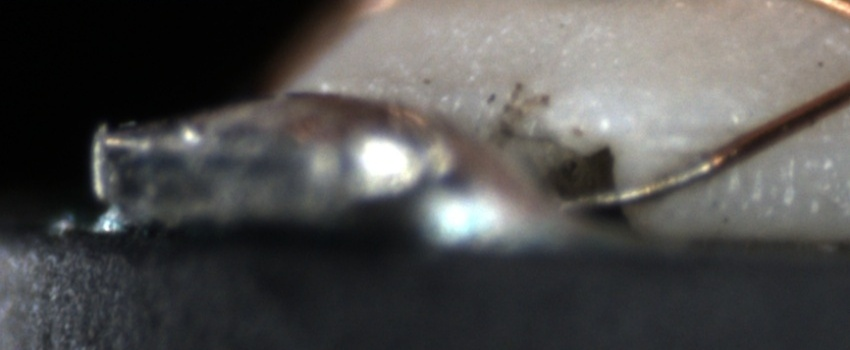DL: (672, 96, 849, 160)
TS: (567, 158, 721, 210)
TTCW: (562, 123, 768, 210)
